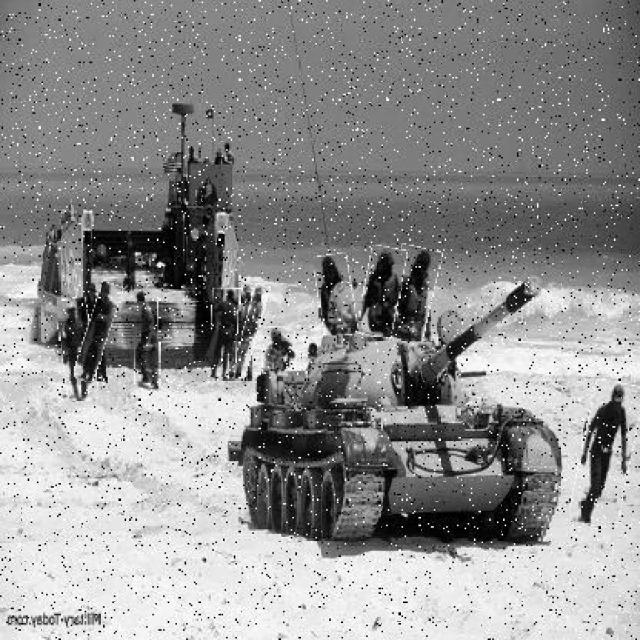Person: (577, 381, 640, 529), (387, 246, 438, 343), (363, 247, 406, 340), (60, 300, 97, 403), (80, 283, 117, 383), (317, 253, 357, 338), (226, 290, 257, 381), (135, 290, 161, 392), (211, 289, 240, 380), (238, 284, 264, 381), (263, 329, 297, 372)
Tank: (229, 275, 564, 542)
